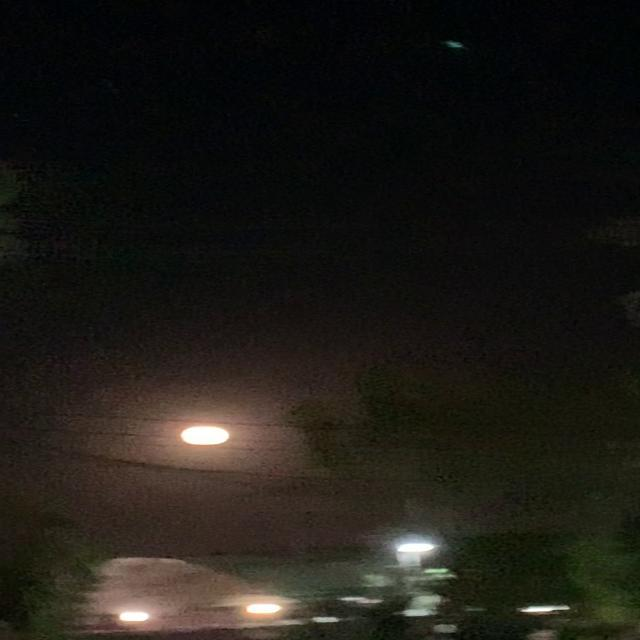moon: (172, 424, 230, 452)
